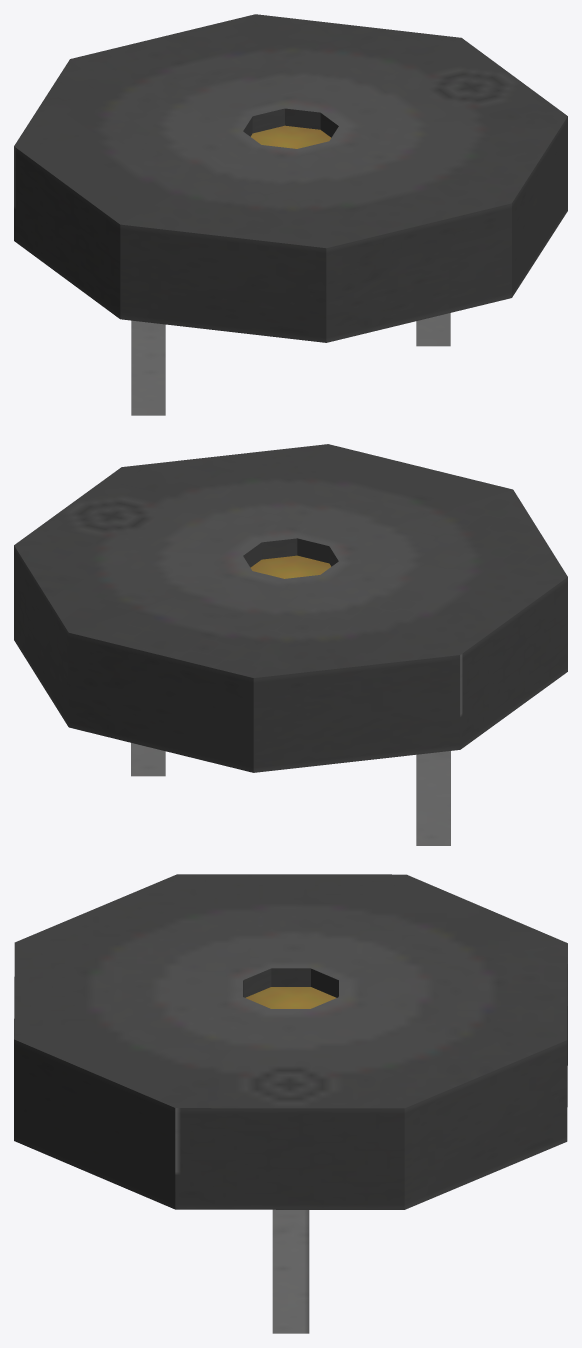
Rendered from Buzzer.obj.
3 renders of one model, top to bottom at view 1: azimuth 30°, elevation 25°; view 2: azimuth 150°, elevation 25°; view 3: azimuth 270°, elevation 25°, orthographic. The views are drawn at different scales.
Parts seen in each view (by area): view 1: Buzzer_Sphere.001; view 2: Buzzer_Sphere.001; view 3: Buzzer_Sphere.001.
Boxes of the visible parts, left/top/right/bottom form: Buzzer_Sphere.001: left=14, top=14, right=567, bottom=415; Buzzer_Sphere.001: left=14, top=444, right=567, bottom=845; Buzzer_Sphere.001: left=14, top=874, right=567, bottom=1333.
Bounding box in the file's own units: 0.258 × 0.1366 × 0.2579.
